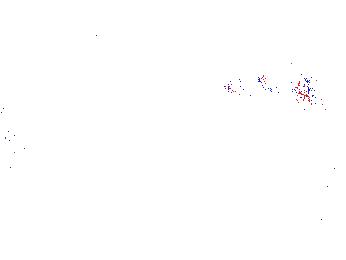glassfish: (1, 126, 41, 163)
redtail glassfish: (290, 45, 340, 73), (222, 67, 265, 99), (316, 92, 346, 110)
